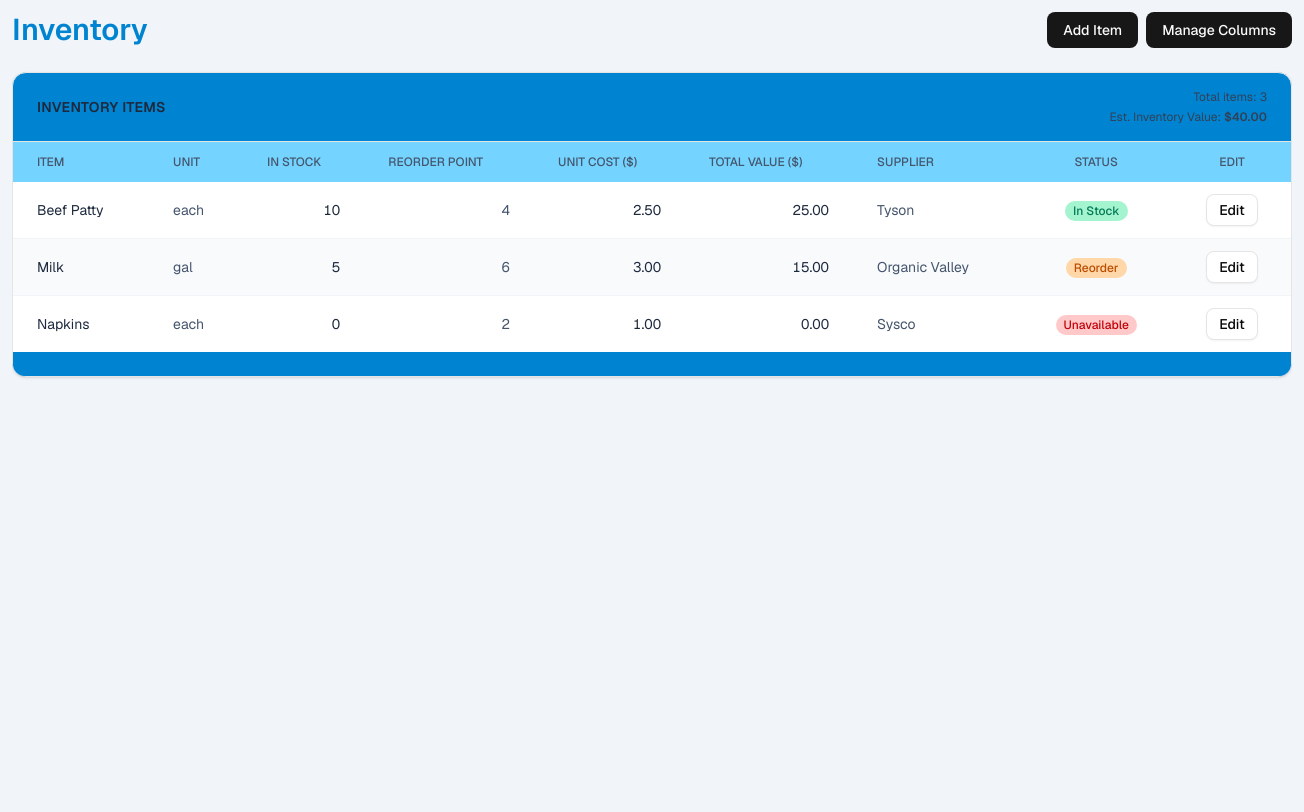
Test case: InventoryPage › opens manage columns panel
Expected: the text "Beef Patty" is shown, [13,182,149,238]
Click the button "Manage Columns" at [1219, 30], box [1146,12,1292,48]
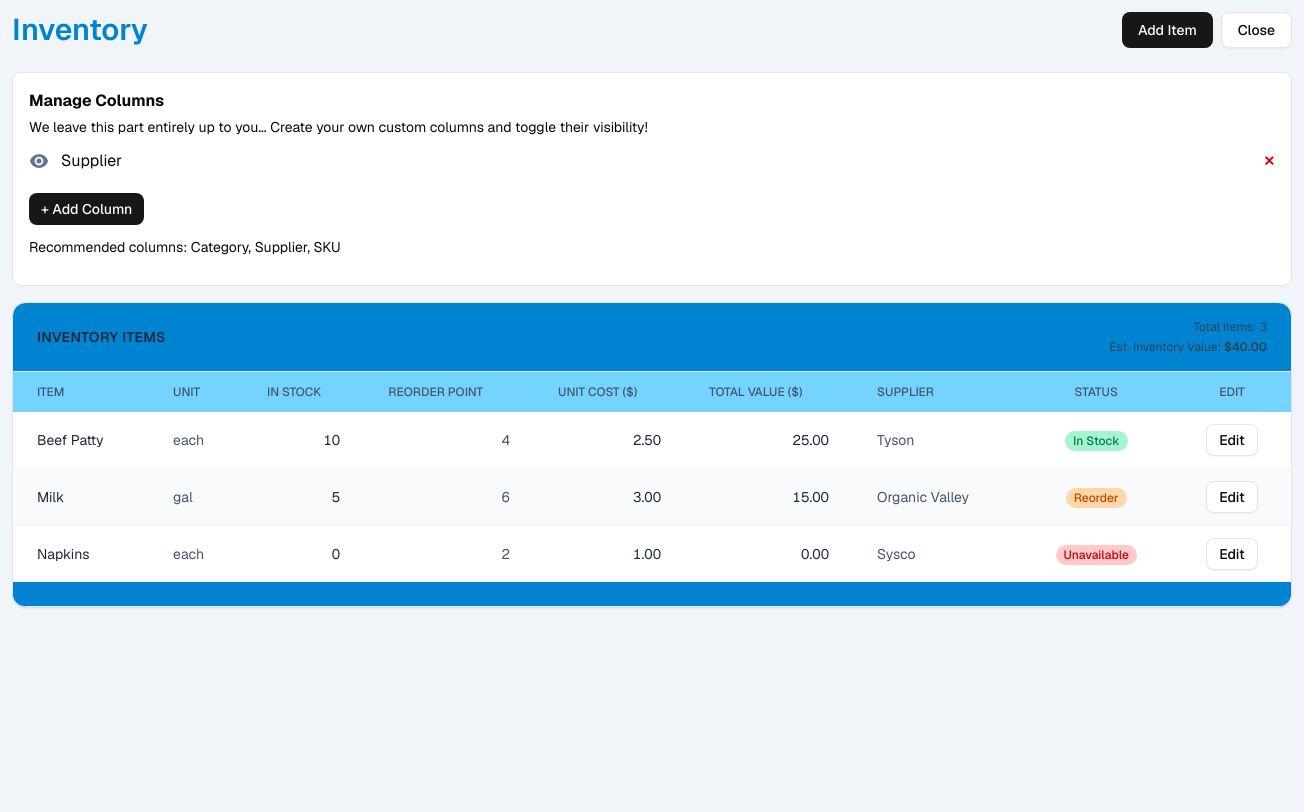
Expected: the heading "Manage Columns" is shown, [29,90,164,111]
Expected: the text "Supplier" is shown, [61,149,122,173]
